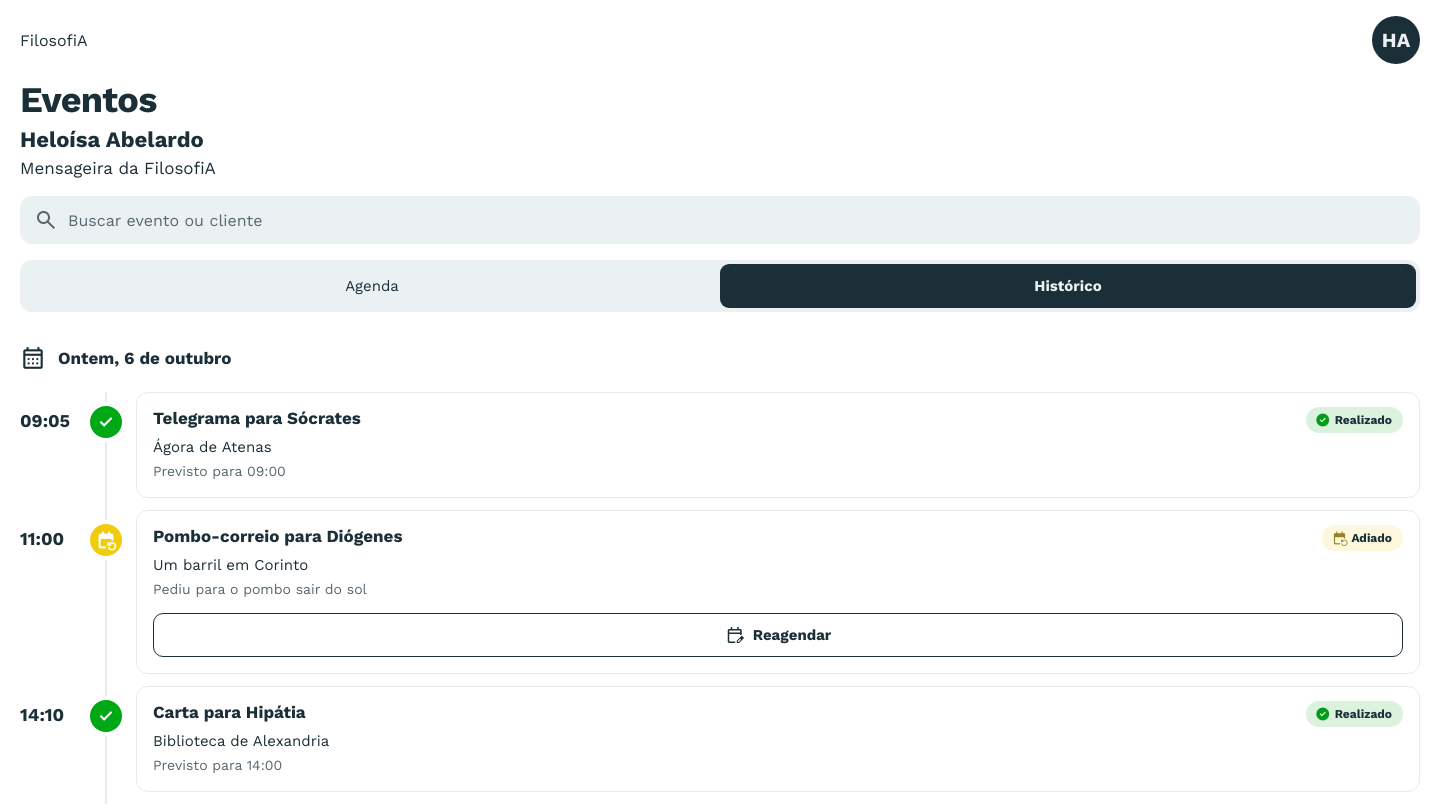
Test: TemplateAgenda.vue › avisa quando a busca não encontra nada no histórico
The width and height of the screenshot is (1440, 810).
Type "nada parecido" into the search field at (737, 220), box [68,196,1406,244]
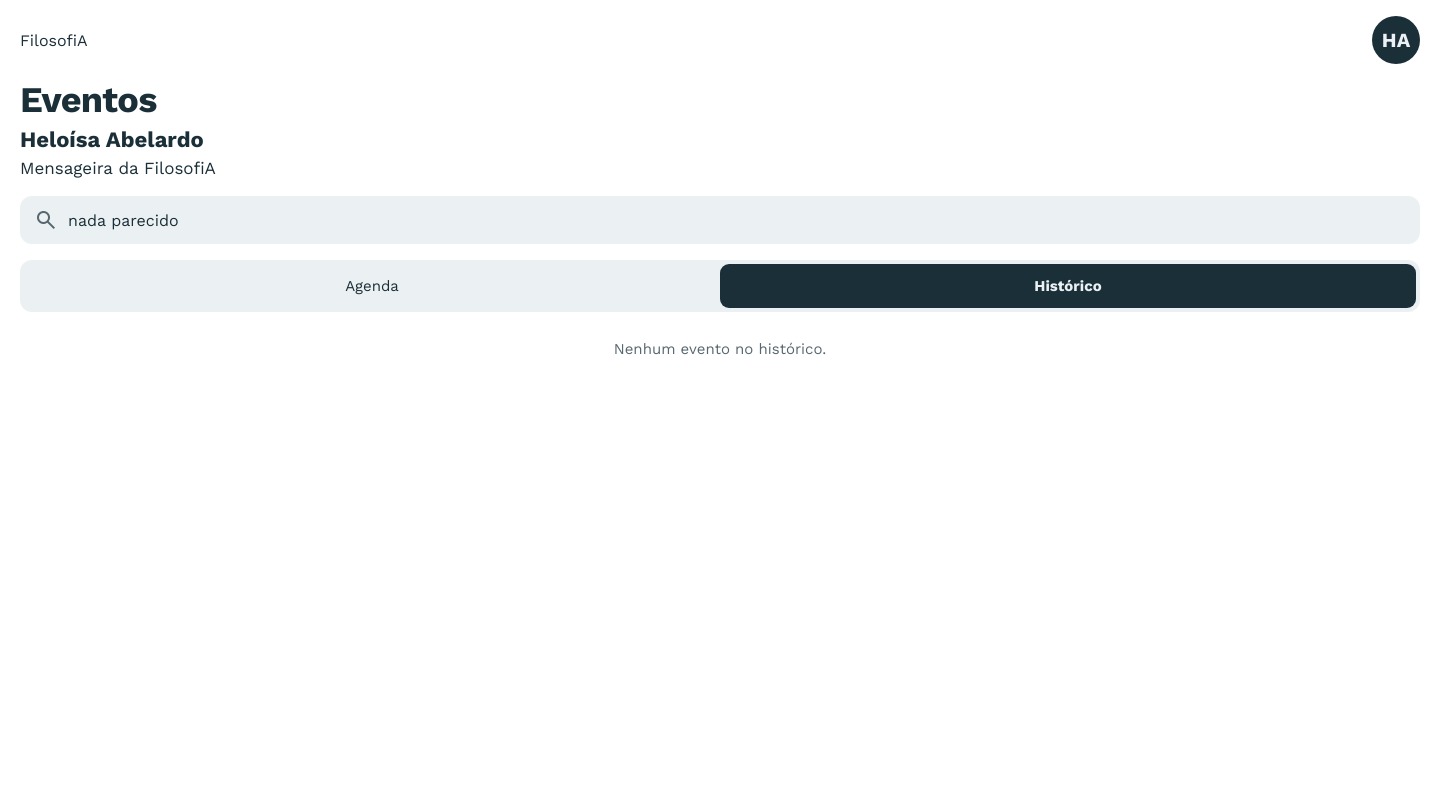
Now the text "Nenhum evento no histórico." is shown, box [614,340,826,358]
